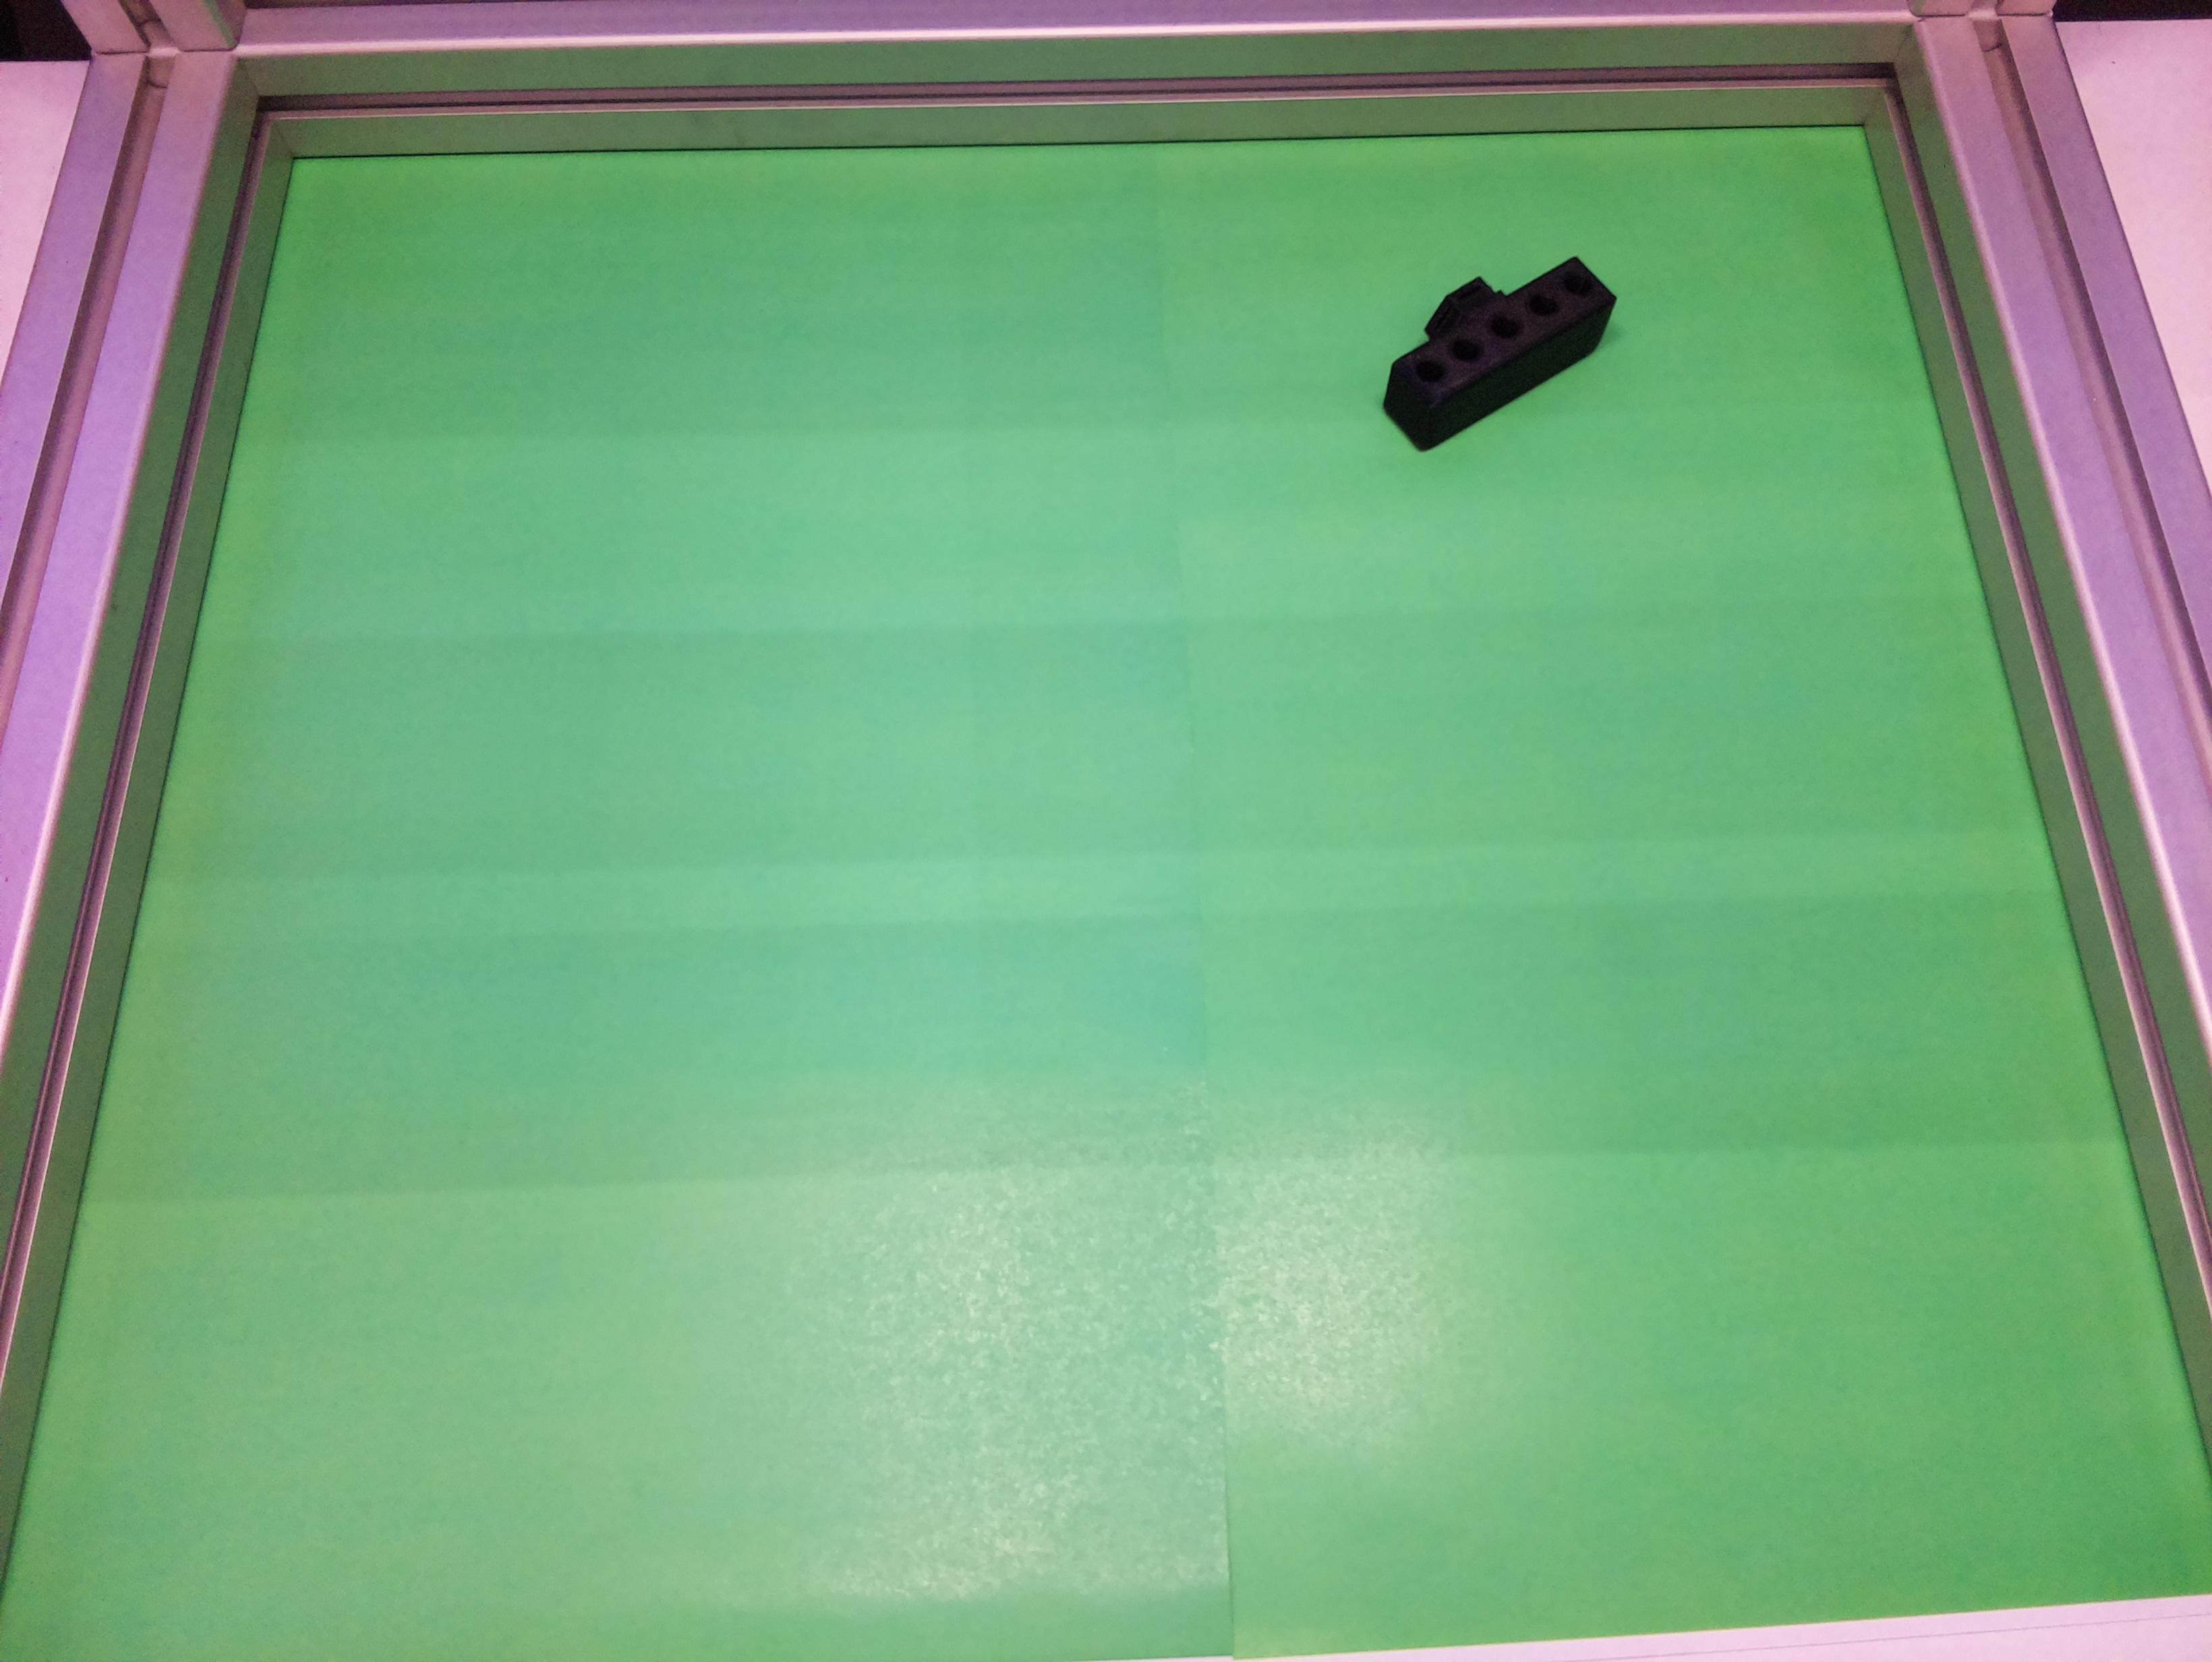bit_holder: (1350, 222, 1633, 459)
